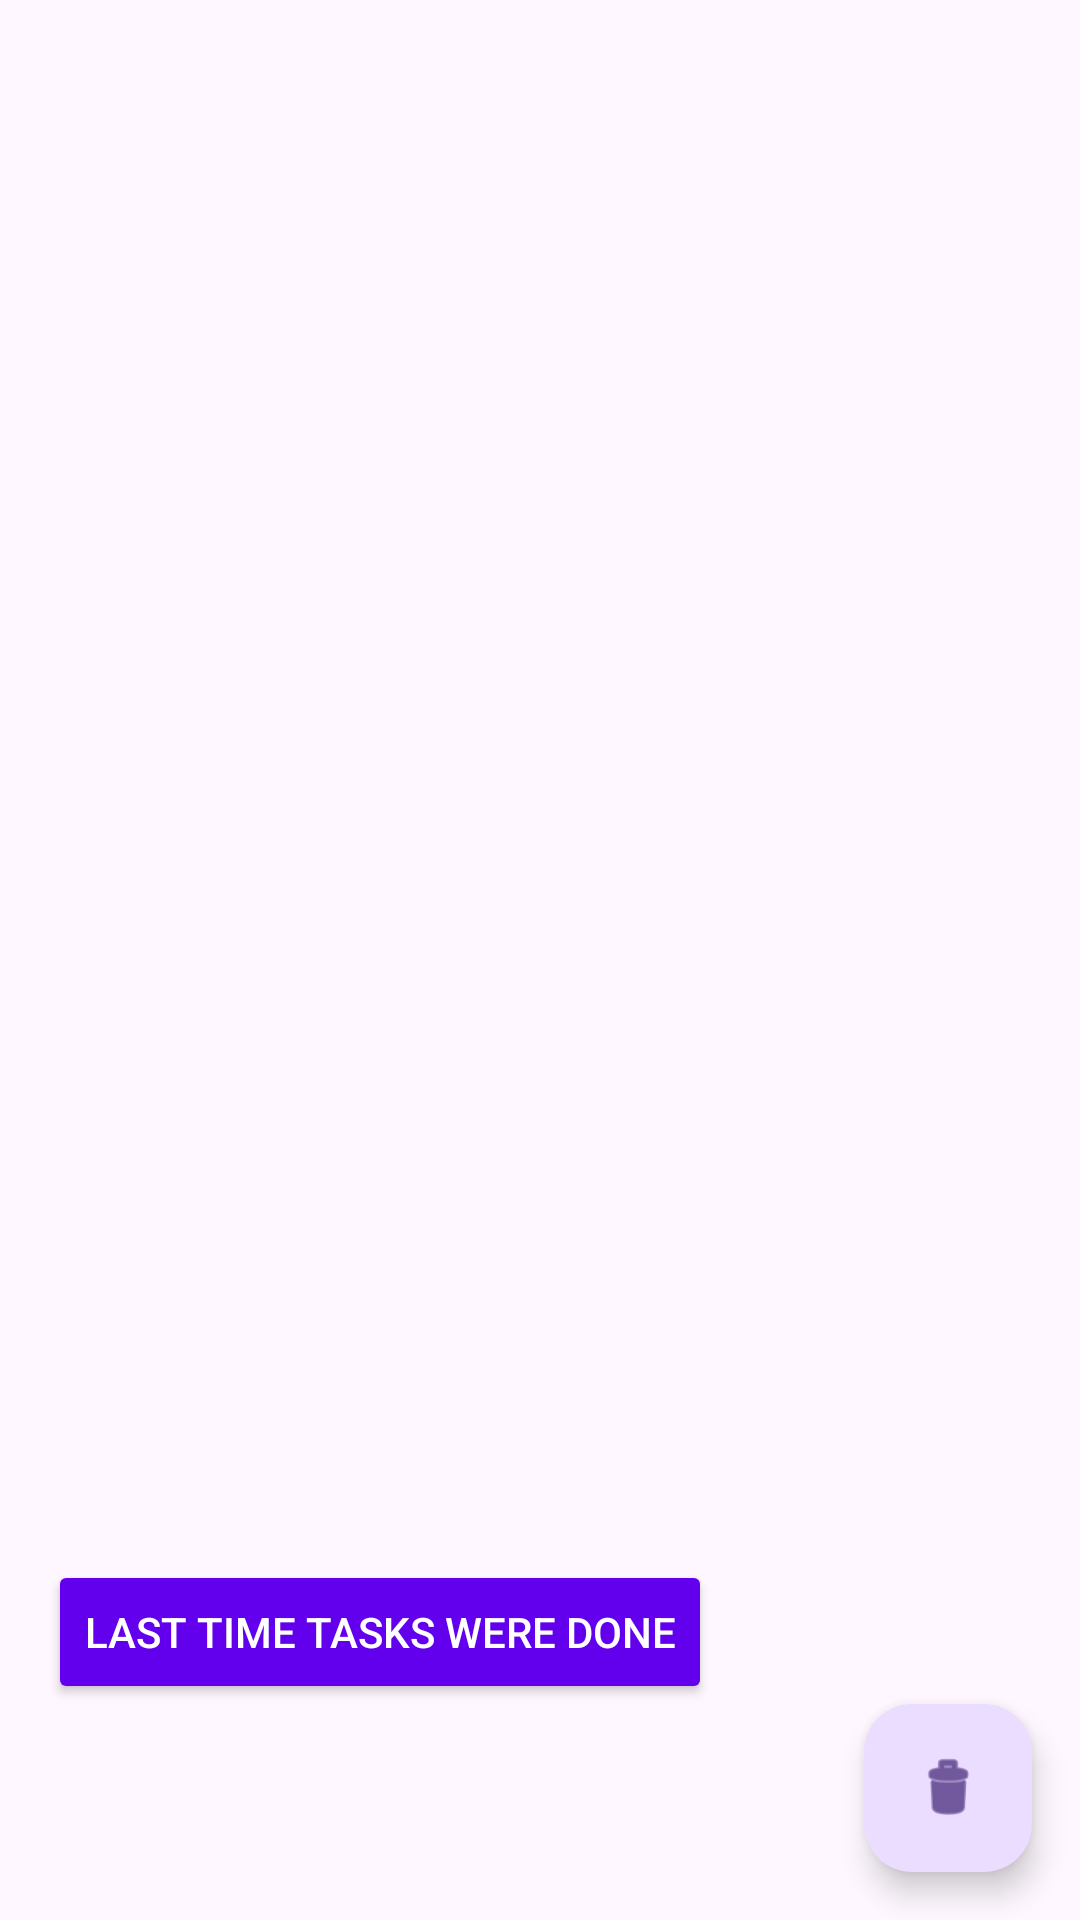

Named icons in this screenshot (1080w x 1920h) and their centers, point (x, y):
delete: point (948, 1788)
